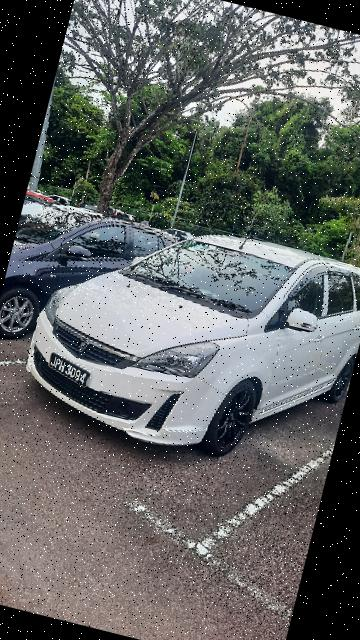License_Plate: (41, 350, 100, 395)
car: (13, 184, 360, 487)
